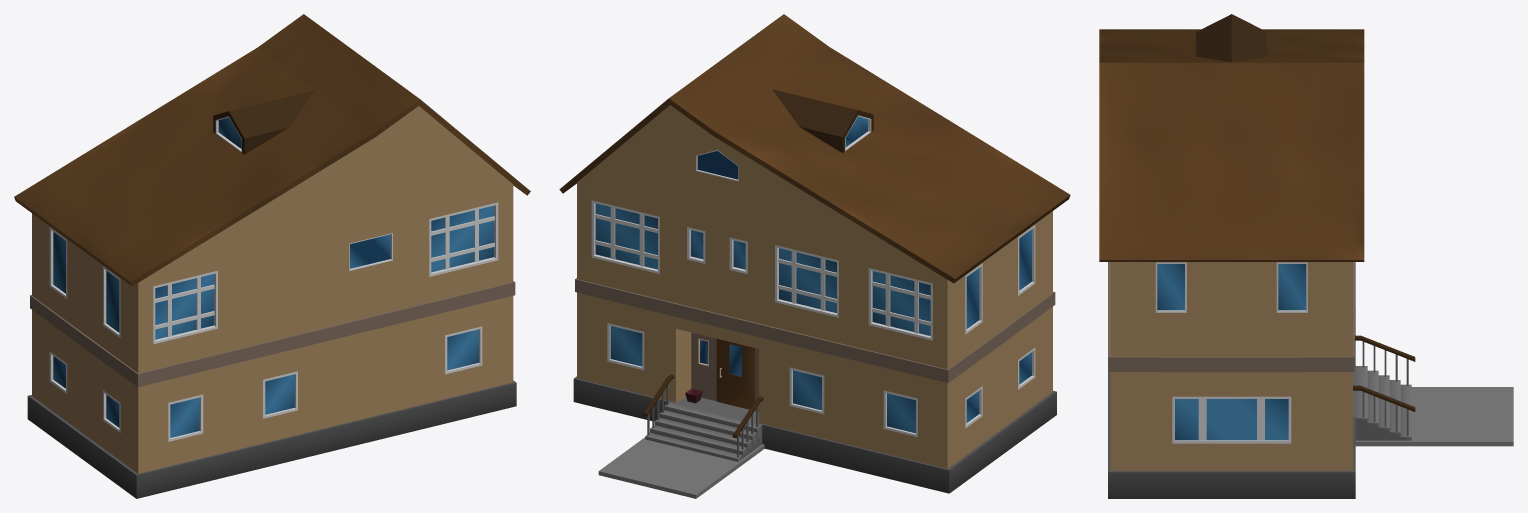
The model's file is cottage_1.fbx.
3 views of the same model, side by side, from view 1: azimuth 30°, elevation 25°; view 2: azimuth 150°, elevation 25°; view 3: azimuth 270°, elevation 25° (orthographic). The views are drawn at different scales.
Parts seen in each view (by area): view 1: cottage_1; view 2: cottage_1; view 3: cottage_1.
Boxes of the visible parts, x1,y1,x2,y2 form: cottage_1: (14,14,530,498); cottage_1: (559,14,1070,498); cottage_1: (1099,14,1513,498).
Size of the model in its own units: 14.75 by 11.62 by 11.77.
